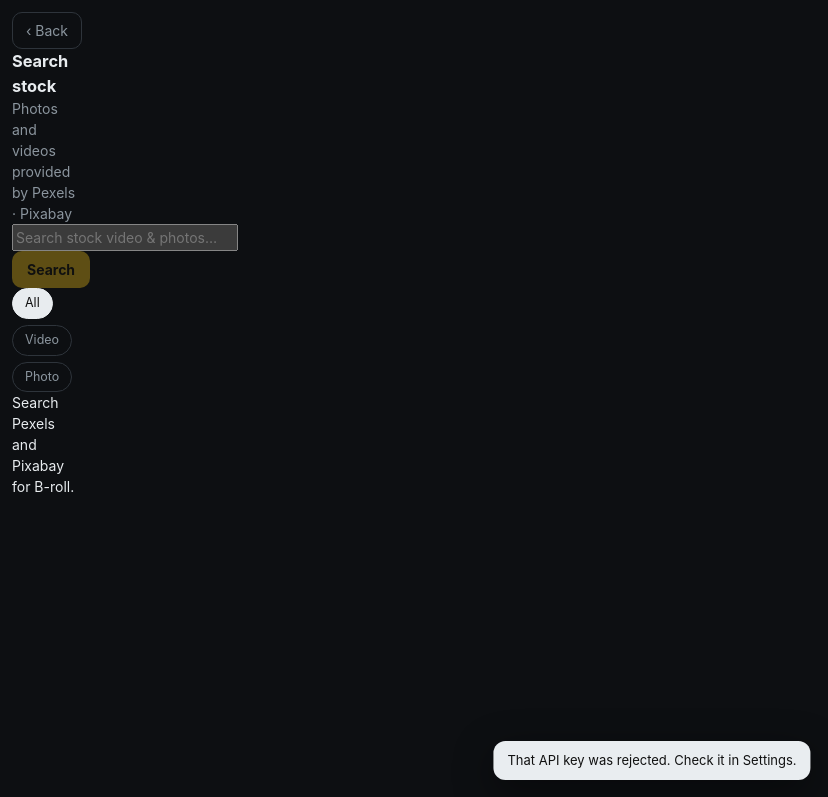
StockPanel: search results grid › links a Pixabay result to its item page
Step 1. Type "sample" into the field labelled "Search stock" → (125, 238), box [12,224,238,251]
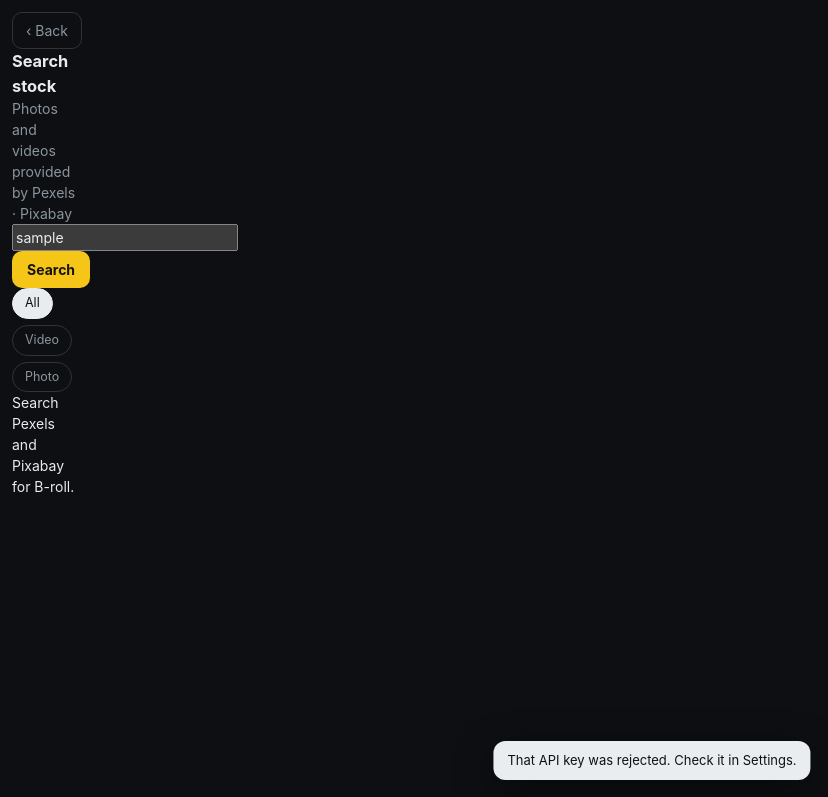
Step 2. Click the button "Search" → (51, 270), box [12,251,90,288]
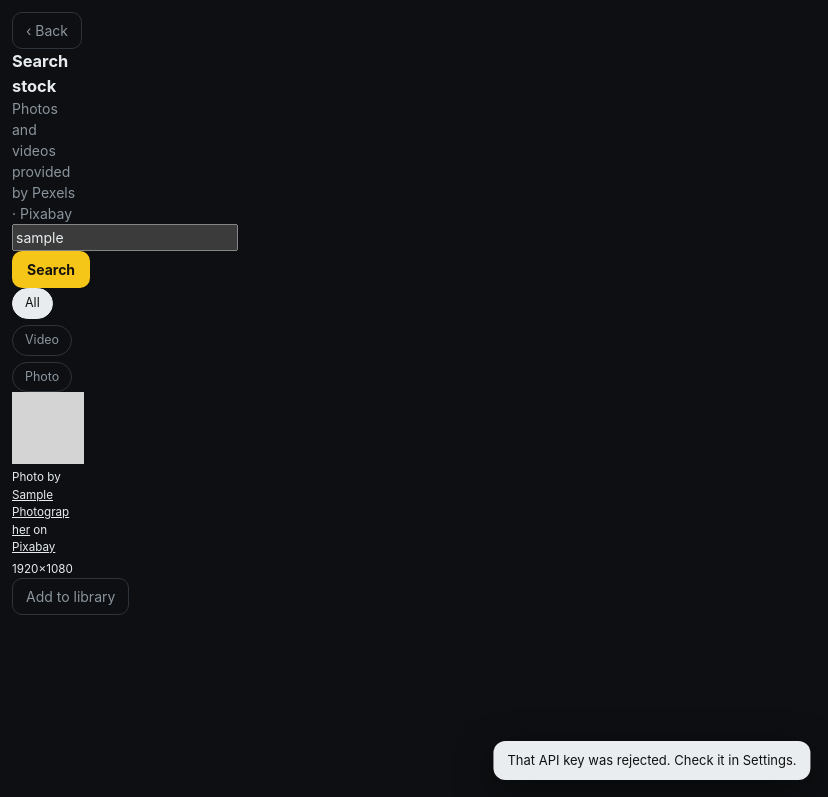
Now the element showing "Photo by Sample Photographer on Pixabay" is shown, box [12,469,76,557]
